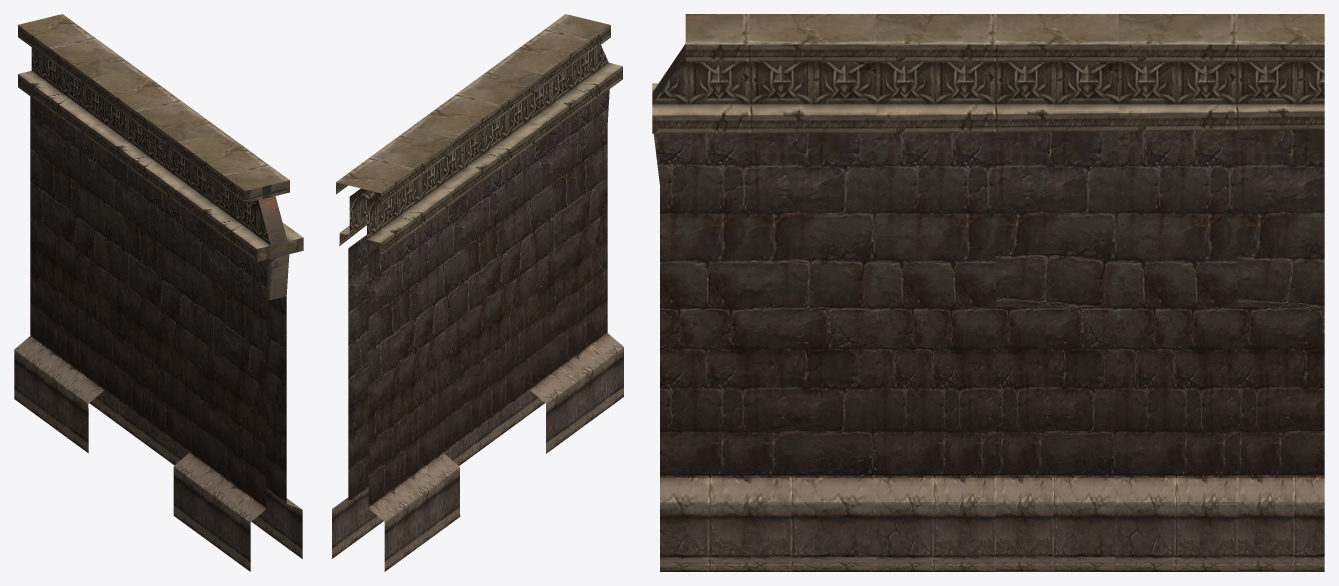
File: blsd_4qiangm_01.FBX
The picture shows the model from 3 angles, left to right: view 1: azimuth 30°, elevation 25°; view 2: azimuth 150°, elevation 25°; view 3: azimuth 270°, elevation 25°; orthographic projection. The views are drawn at different scales.
Visible parts, largest first — view 1: blsd_4qiangm_01; view 2: blsd_4qiangm_01; view 3: blsd_4qiangm_01.
Part boxes in pixels (bbox=[...]): blsd_4qiangm_01: bbox=[14, 14, 303, 571]; blsd_4qiangm_01: bbox=[332, 14, 623, 571]; blsd_4qiangm_01: bbox=[652, 14, 1324, 571].
Size of the model in its own units: 111 by 756 by 878.
